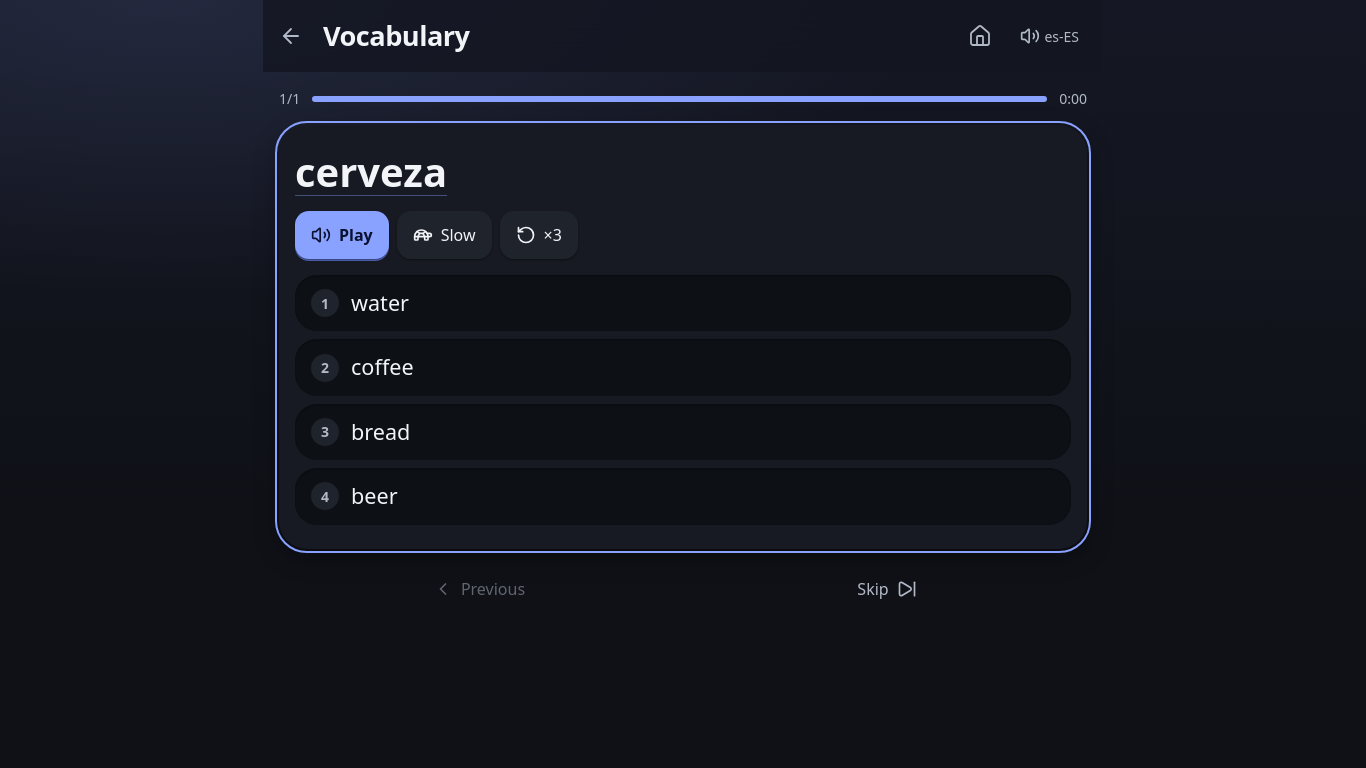
Test case: answer feedback › marks the right answer, and a wrong one only where it was tapped
The width and height of the screenshot is (1366, 768).
Click the button "1 water".
click(380, 302)  # box [295,275,1071,331]
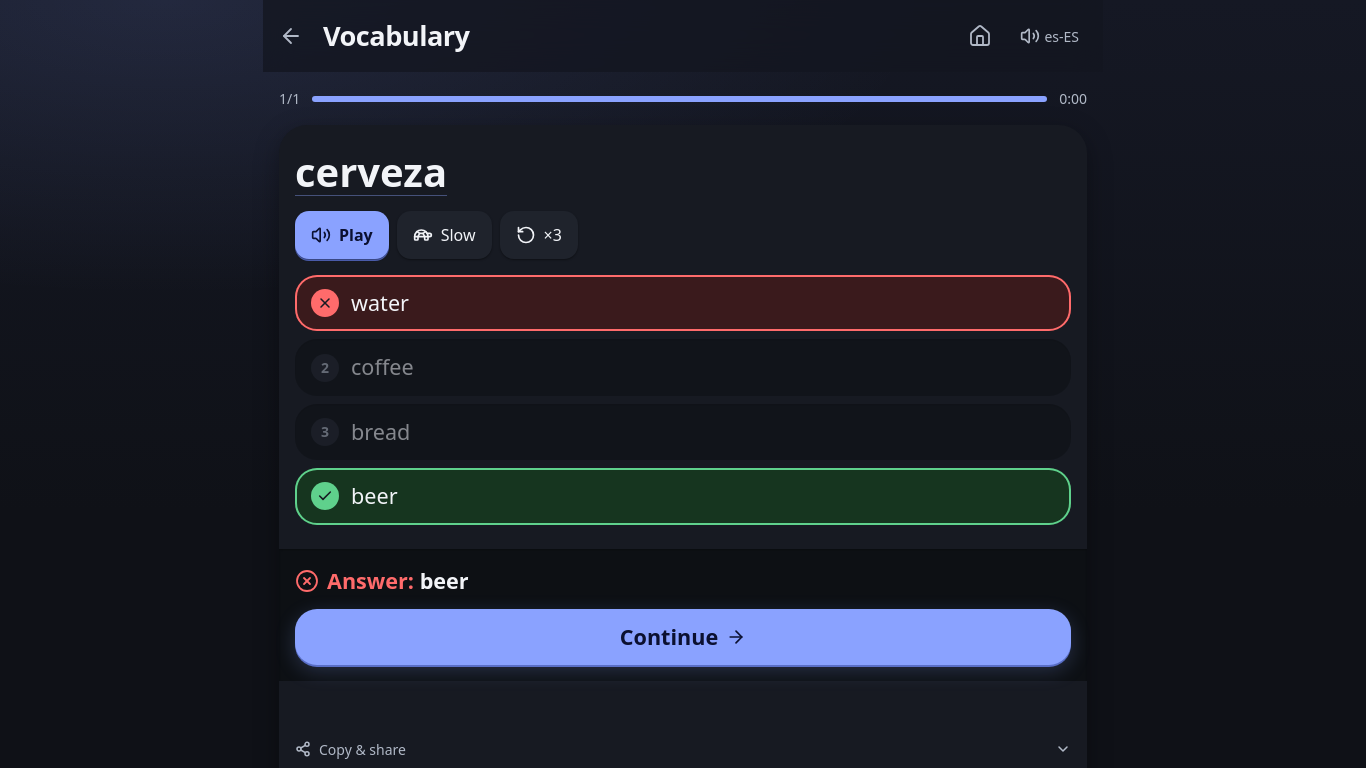
Now the message "Answer: beer" is shown, box [295,565,469,597]
